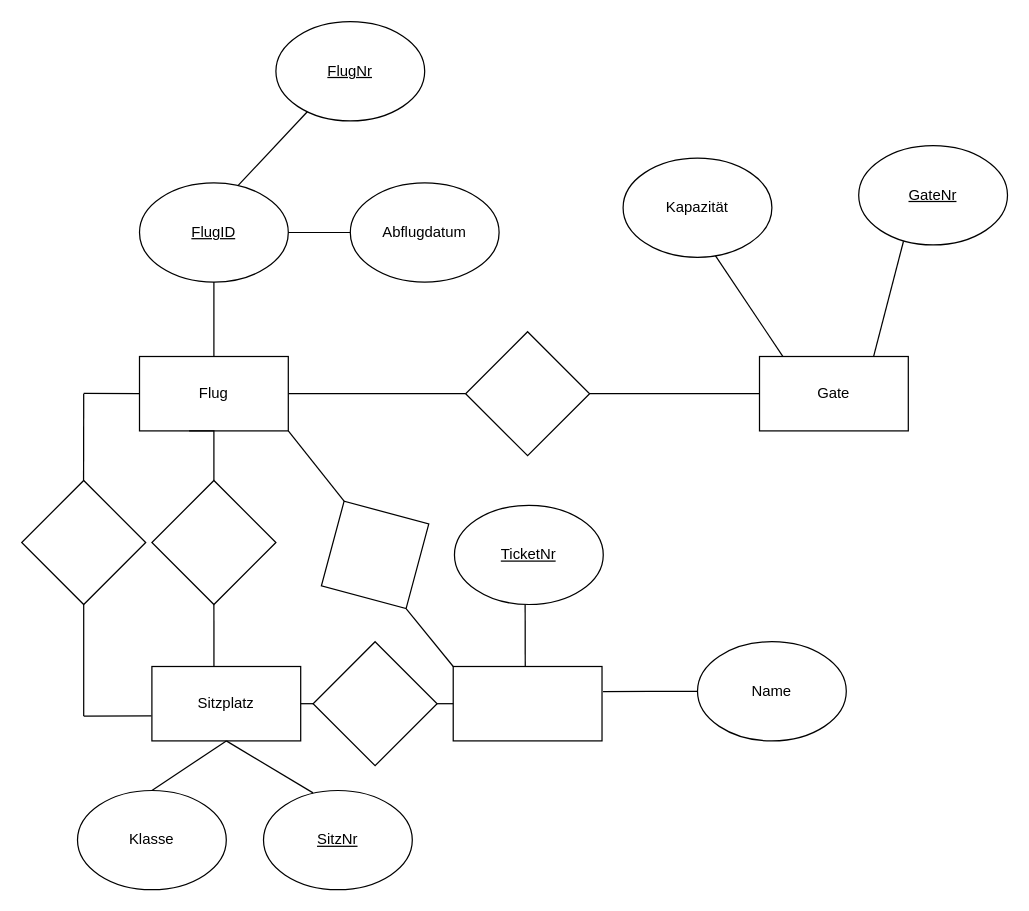
Some shapes in this 1029 by 911 pixel diagram are drawn without their labels. Each missing label, with the centre of its shape:
"hat" belongs at point (213, 541).
"Passagier" belongs at point (527, 703).
"reserviert" belongs at point (374, 703).
"transportiert" belongs at point (374, 554).
"verfügt" belongs at point (83, 541).
"wird abgefertigt an" belongs at point (527, 393).
